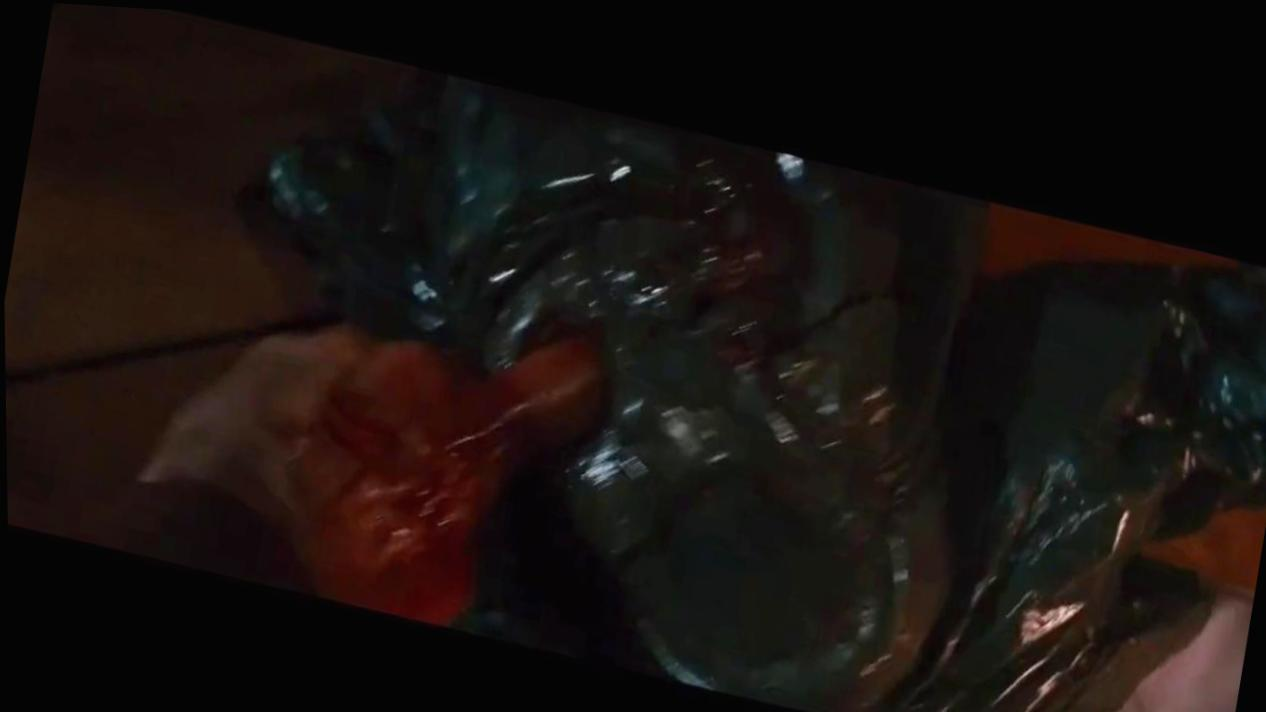Fire: (283, 334, 605, 623)
